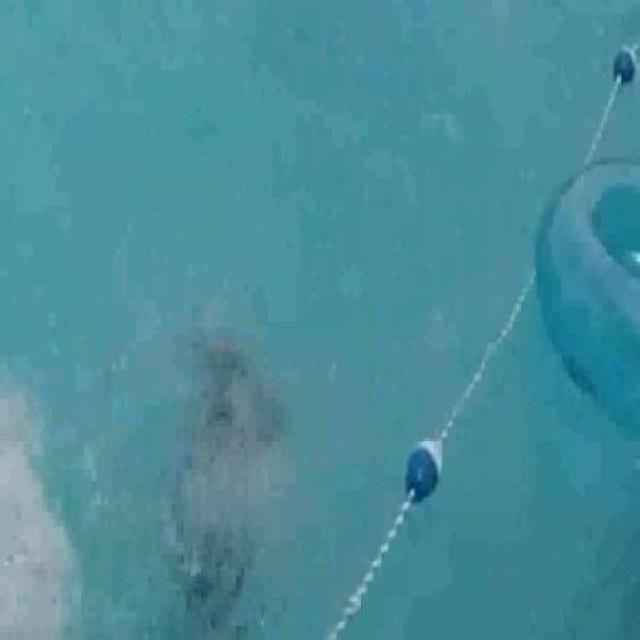drowning: (156, 316, 312, 632)
